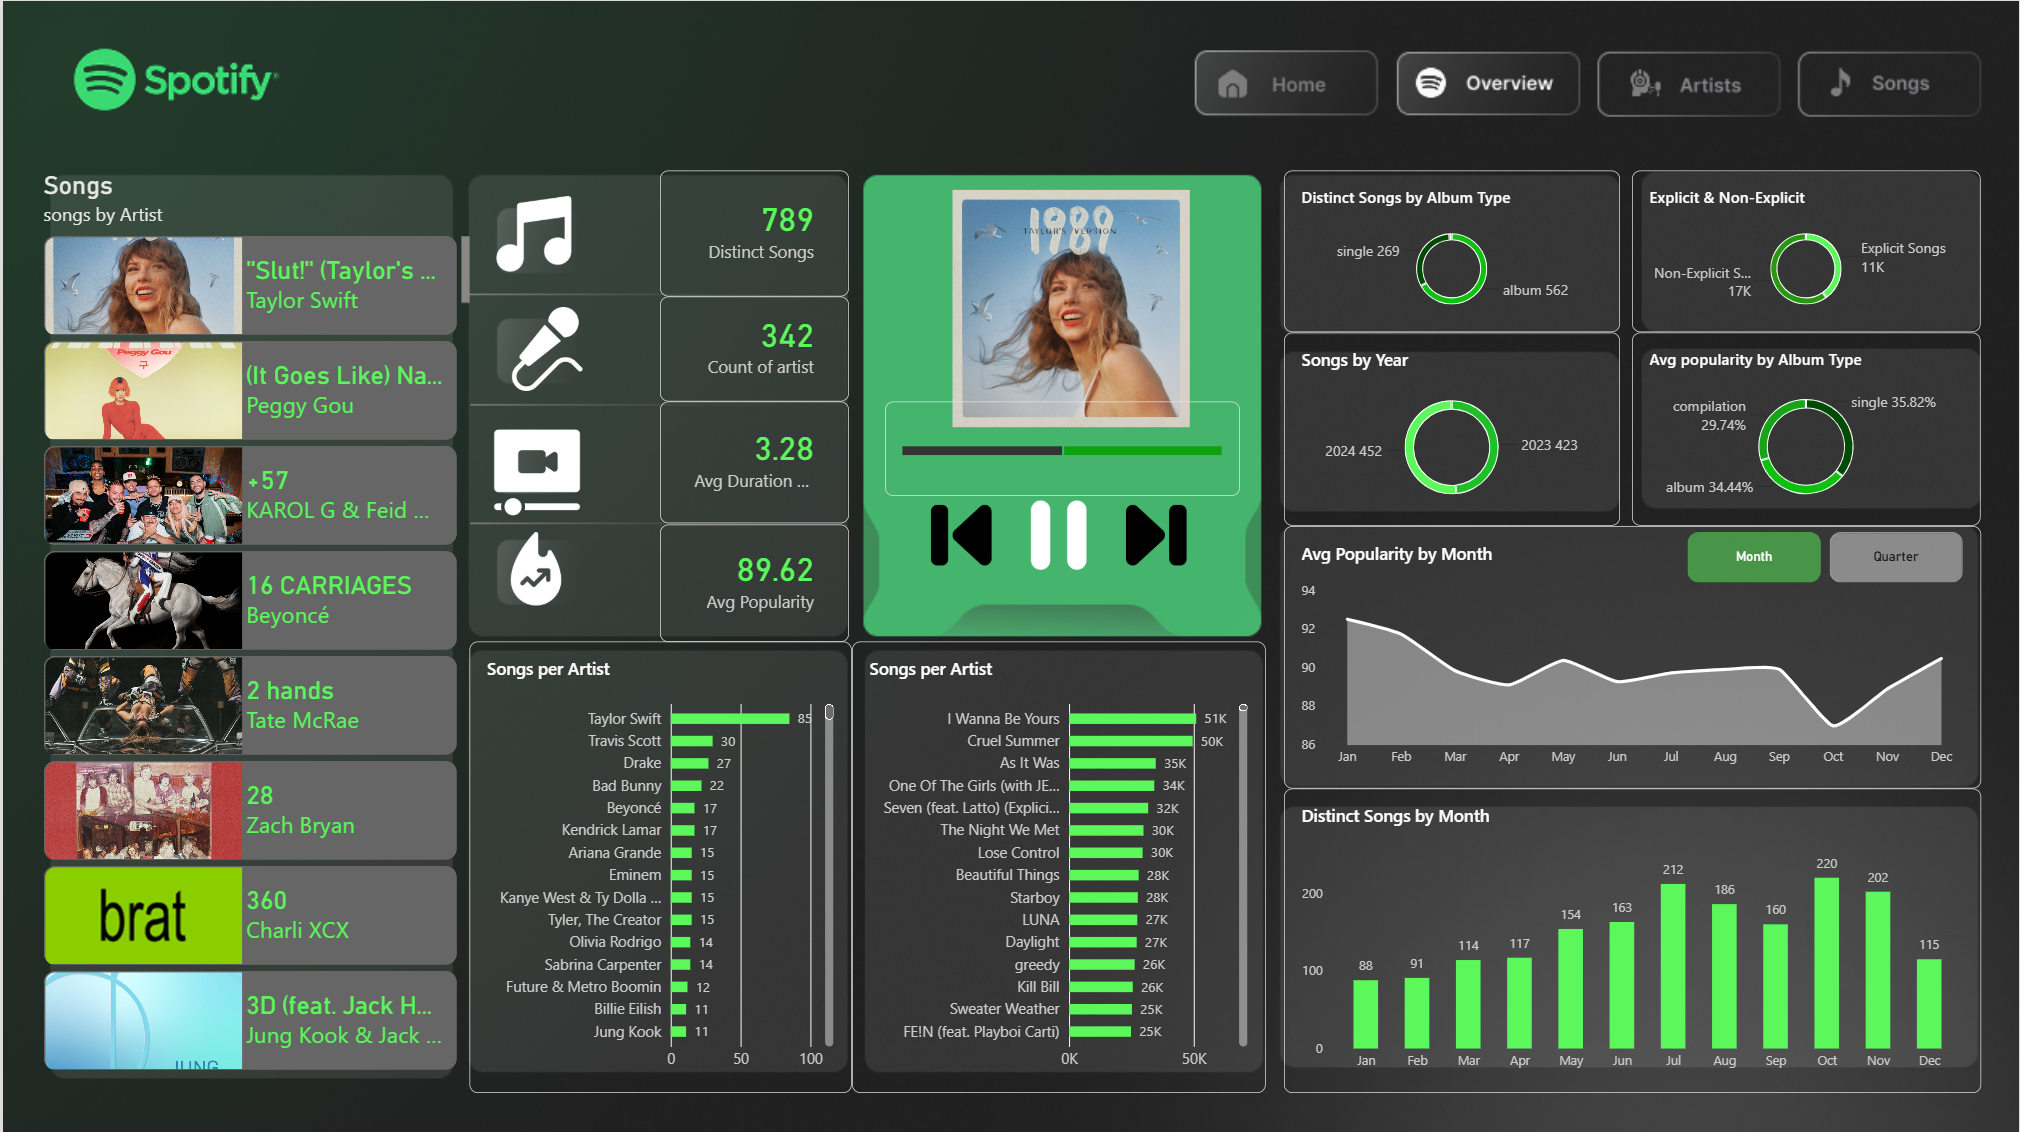

Layout of this report page (visuals, bound fields, positions):
{"tool":"powerbi","page":{"name":"Overview","canvas":[1920,1080],"ordinal":1},"visuals":[{"type":"clusteredBarChart","title":"Songs per Artist","fields":{"Category":["Top-50-World.artist"],"Y":["_Measure.Distinct Songs per Artist"]},"box":[444,610,364,430],"z":0},{"type":"clusteredBarChart","title":"Songs per Artist","fields":{"Category":["Top-50-World.song"],"Y":["Sum(Top-50-World.popularity)"]},"box":[808,610,394,430],"z":1000},{"type":"areaChart","fields":{"Category":["Top-50-World.Month"],"Y":["_Measure.Avg Popularity"]},"box":[1220,500,664,250],"z":2000},{"type":"advancedSlicerVisual","fields":{"Values":["Slicer_options.Slicer_options"]},"box":[1604,506,262,48],"z":3000},{"type":"donutChart","title":"Distinct Songs by Album Type","fields":{"Category":["Top-50-World.album_type"],"Y":["_Measure.Distinct Songs"]},"box":[1220,162,320,154],"z":4000},{"type":"donutChart","title":"Explicit & Non-Explicit","fields":{"Y":["_Measure.Explicit Songs","_Measure.Non-Explicit Songs"]},"box":[1552,162,332,154],"z":5000},{"type":"donutChart","title":"Songs by Year","fields":{"Category":["Top-50-World.date.Variation.Date Hierarchy.Year"],"Y":["_Measure.Distinct Songs"]},"box":[1220,316,320,184],"z":6000},{"type":"donutChart","title":"Avg popularity by Album Type","fields":{"Category":["Top-50-World.album_type"],"Y":["_Measure.Avg Popularity"]},"box":[1552,316,332,184],"z":7000},{"type":"clusteredColumnChart","fields":{"Category":["Top-50-World.Month"],"Y":["_Measure.Distinct Songs"]},"box":[1220,750,664,290],"z":8000},{"type":"cardVisual","fields":{"Data":["Count(Top-50-World.artist)"]},"box":[626,282,180,100],"z":9000},{"type":"cardVisual","fields":{"Data":["_Measure.Avg Duration Minutes"]},"box":[626,382,180,116],"z":10000},{"type":"cardVisual","fields":{"Data":["_Measure.Avg Popularity"]},"box":[626,498,180,112],"z":11000},{"type":"cardVisual","fields":{"Data":["_Measure.Distinct Songs"]},"box":[626,162,180,120],"z":12000},{"type":"image","box":[464,506,108,70],"z":13000},{"type":"image","box":[444,400,128,98],"z":14000},{"type":"image","box":[464,186,82,72],"z":15000},{"type":"image","box":[474,292,88,80],"z":16000},{"type":"advancedSlicerVisual","title":"Songs","fields":{"Values":["Top-50-World.song"]},"box":[38,162,406,860],"z":17000},{"type":"advancedSlicerVisual","title":"Songs","fields":{"Values":["Top-50-World.song"]},"box":[814,178,406,228],"z":18000},{"type":"hundredPercentStackedBarChart","fields":{"Y":["_Measure.Avg Popularity","Avg(Top-50-World.popularity)"]},"box":[840,382,338,90],"z":19000},{"type":"image","box":[1050,476,96,66],"z":20000},{"type":"image","box":[864,476,96,66],"z":21000},{"type":"image","box":[957,476,96,66],"z":22000},{"type":"shape","box":[840,160,338,450],"z":23000},{"type":"actionButton","box":[1135.7,45.7,174.3,62.9],"z":24000},{"type":"actionButton","box":[1327.1,45.7,174.3,62.9],"z":25000},{"type":"actionButton","box":[1517.1,45.7,174.3,62.9],"z":26000},{"type":"actionButton","box":[1710,45.7,174.3,62.9],"z":27000}]}

Visuals, with their boxes in screenshot pixels (x1, y1, x2, y2), scaled from the page's 1920x1080 canvas onto the 2020x1132 screenshot:
"Songs per Artist" clusteredBarChart: crop(467, 639, 850, 1090)
"Songs per Artist" clusteredBarChart: crop(850, 639, 1265, 1090)
areaChart - Top-50-World.Month x _Measure.Avg Popularity: crop(1284, 524, 1982, 786)
advancedSlicerVisual - Slicer_options.Slicer_options: crop(1688, 530, 1963, 581)
"Distinct Songs by Album Type" donutChart: crop(1284, 170, 1620, 331)
"Explicit & Non-Explicit" donutChart: crop(1633, 170, 1982, 331)
"Songs by Year" donutChart: crop(1284, 331, 1620, 524)
"Avg popularity by Album Type" donutChart: crop(1633, 331, 1982, 524)
clusteredColumnChart - Top-50-World.Month x _Measure.Distinct Songs: crop(1284, 786, 1982, 1090)
cardVisual - Count(Top-50-World.artist): crop(659, 296, 848, 400)
cardVisual - _Measure.Avg Duration Minutes: crop(659, 400, 848, 522)
cardVisual - _Measure.Avg Popularity: crop(659, 522, 848, 639)
cardVisual - _Measure.Distinct Songs: crop(659, 170, 848, 296)
image: crop(488, 530, 602, 604)
image: crop(467, 419, 602, 522)
image: crop(488, 195, 574, 270)
image: crop(499, 306, 591, 390)
"Songs" advancedSlicerVisual: crop(40, 170, 467, 1071)
"Songs" advancedSlicerVisual: crop(856, 187, 1284, 426)
hundredPercentStackedBarChart - _Measure.Avg Popularity x Avg(Top-50-World.popularity): crop(884, 400, 1239, 495)
image: crop(1105, 499, 1206, 568)
image: crop(909, 499, 1010, 568)
image: crop(1007, 499, 1108, 568)
shape: crop(884, 168, 1239, 639)
actionButton: crop(1195, 48, 1378, 114)
actionButton: crop(1396, 48, 1580, 114)
actionButton: crop(1596, 48, 1779, 114)
actionButton: crop(1799, 48, 1982, 114)
